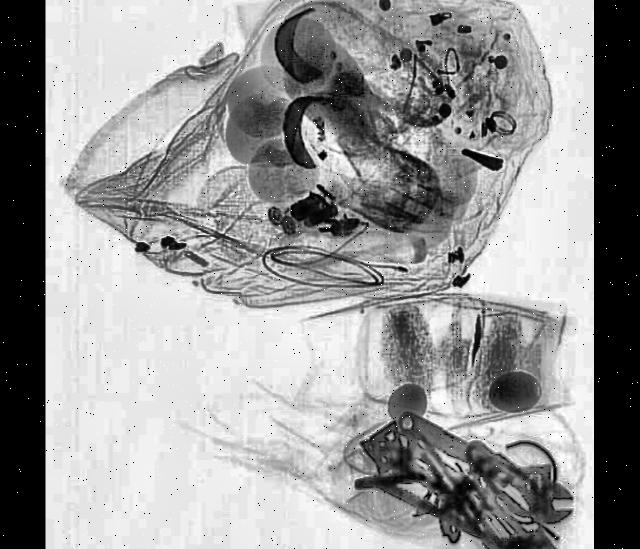Wrench: (391, 394, 578, 534)
